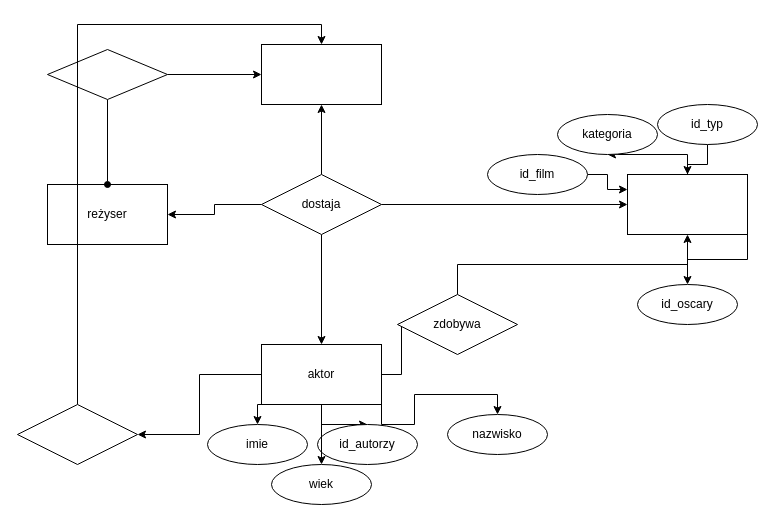
Some shapes in this 775 by 522 pixel diagram are drawn without their labels. The centre of each missing label's shape, as x and y in pixels:
FIlmy: the point at 321,74
gra: the point at 77,434
kręci: the point at 107,74
oscary: the point at 687,204
